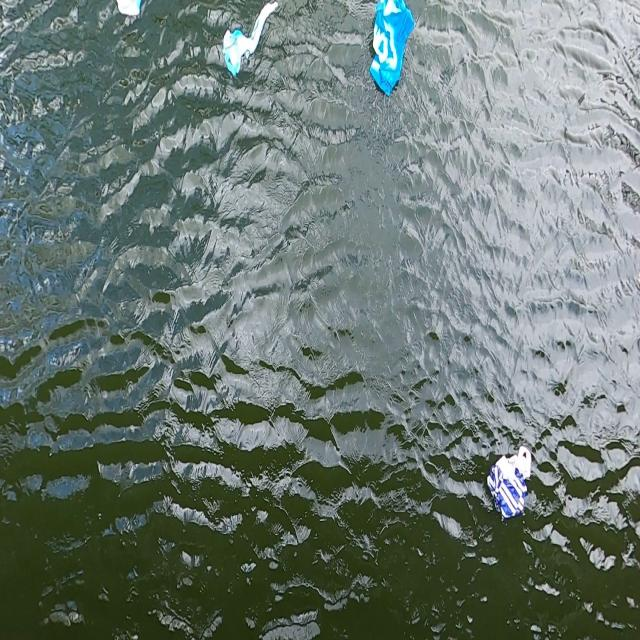Sac plastique: (362, 0, 417, 103), (220, 0, 278, 82), (486, 444, 536, 524)
